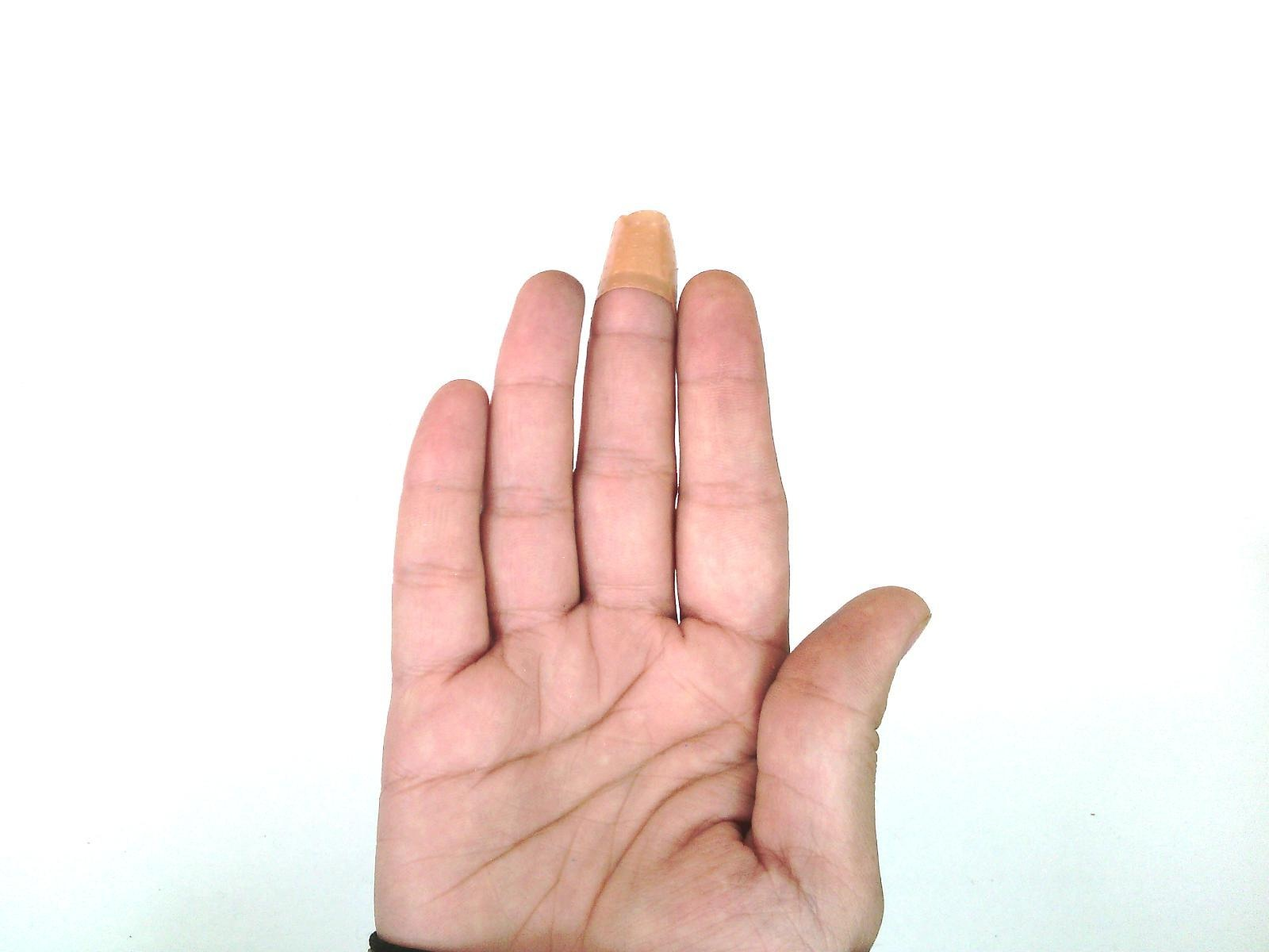open_palm: (368, 209, 934, 952)
